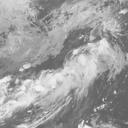cyclone: (48, 54, 90, 96)
